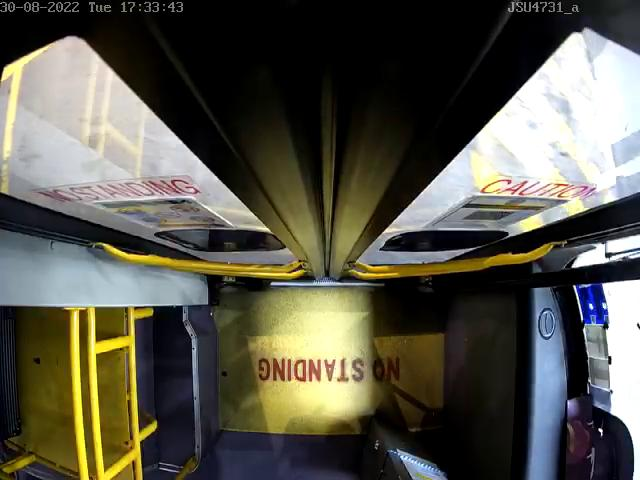close: (0, 0, 640, 109)
